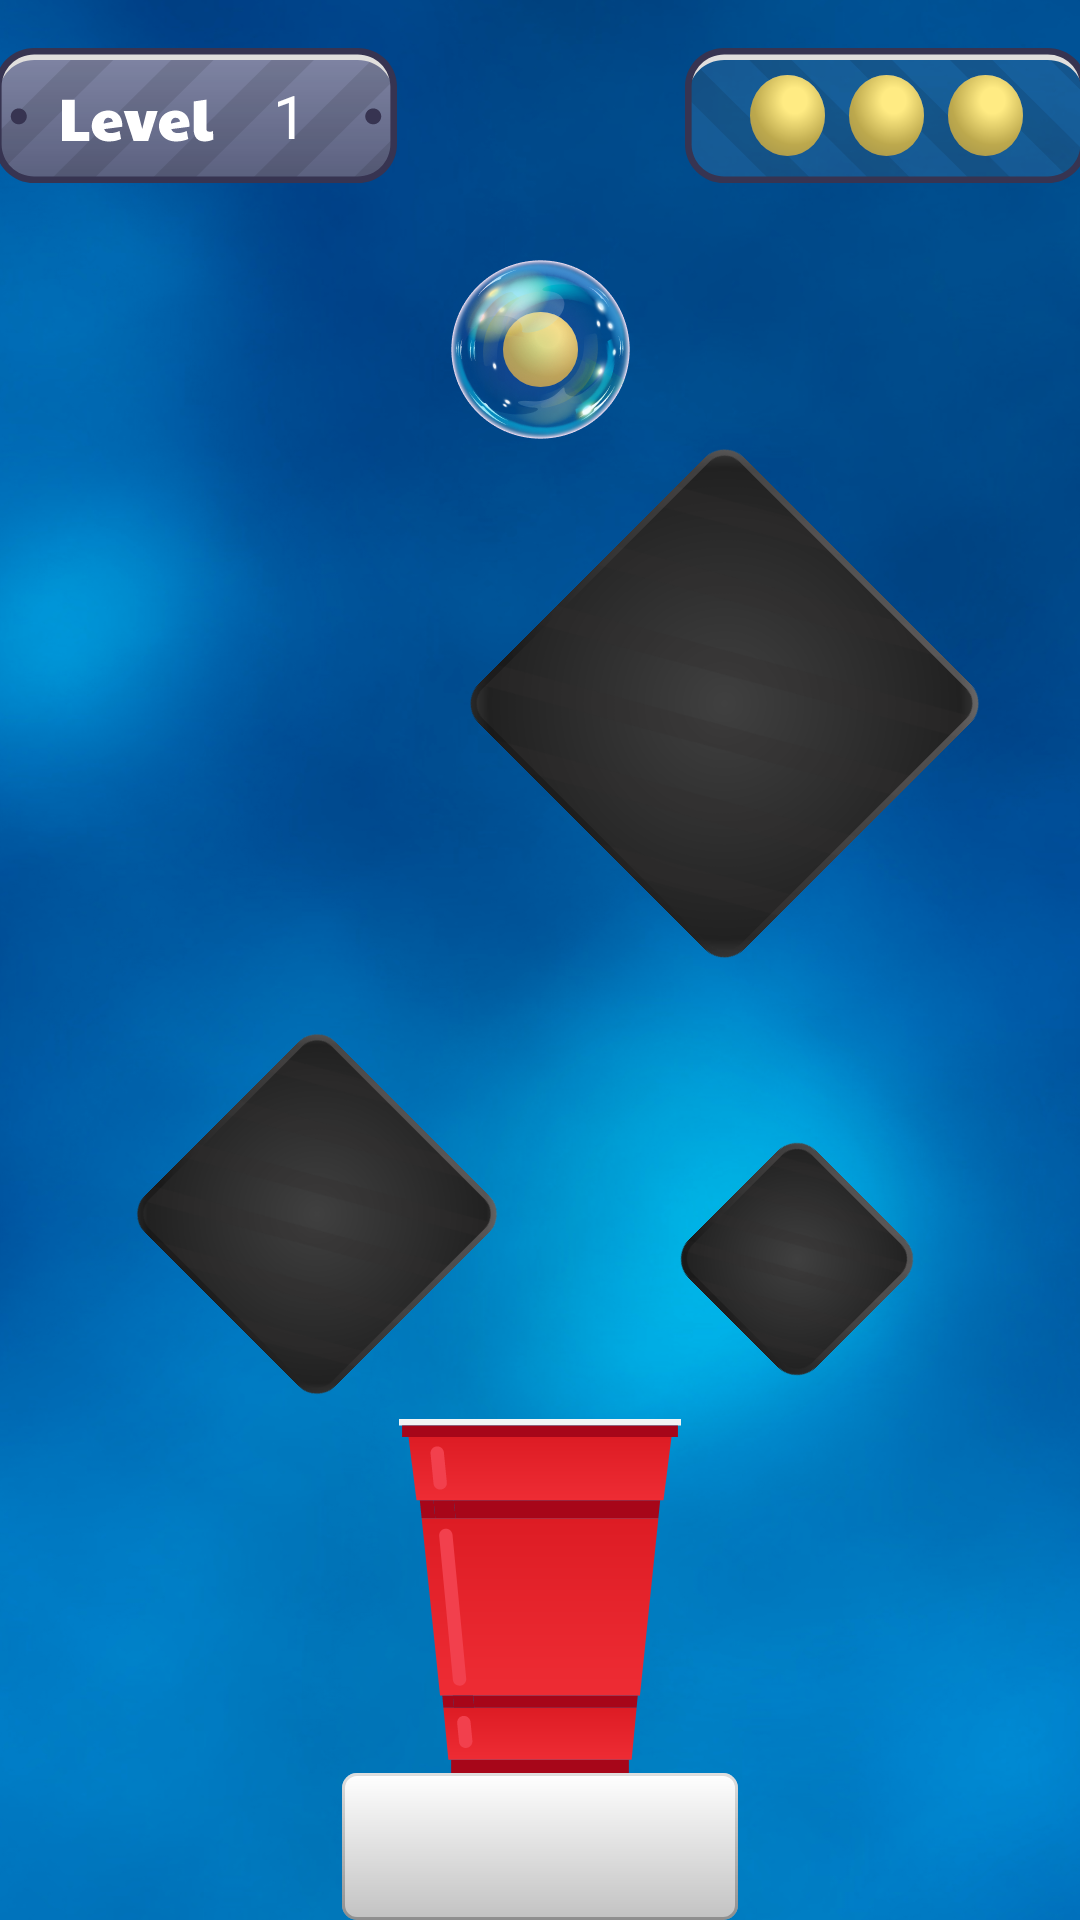

Point at icon controls on the screen. Image size 1080w x 1920h, points as point (x, y).
glass: point (540, 1596)
